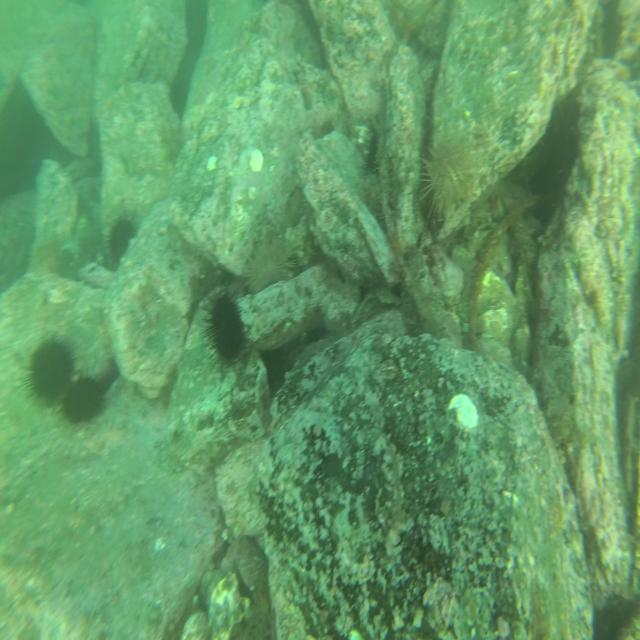echinus: (422, 140, 476, 214), (205, 294, 248, 364), (27, 341, 71, 403), (62, 376, 104, 424), (107, 215, 136, 263)
